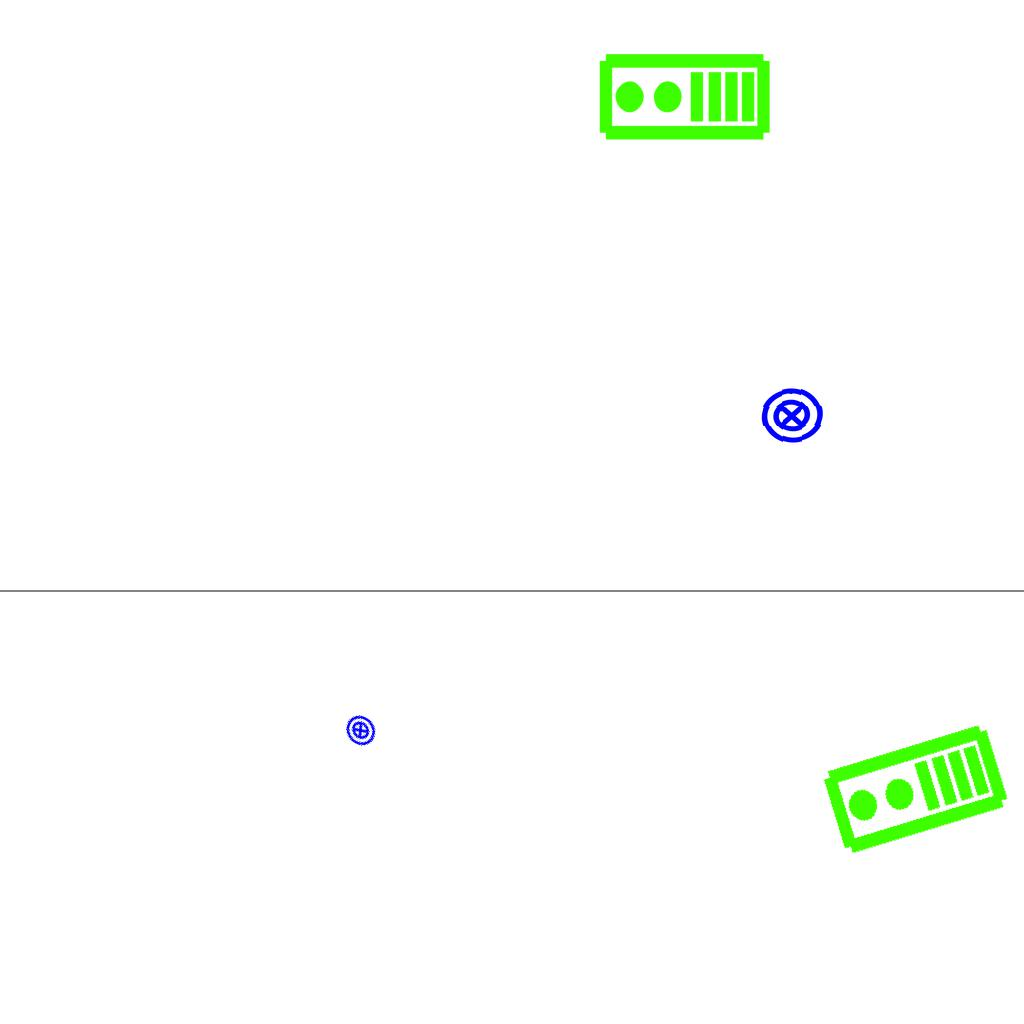Gegensprechanlage_mit_Video: (817, 719, 1014, 863), (596, 51, 772, 146)
Taster_beleuchtet: (757, 381, 827, 451), (337, 707, 384, 754)
